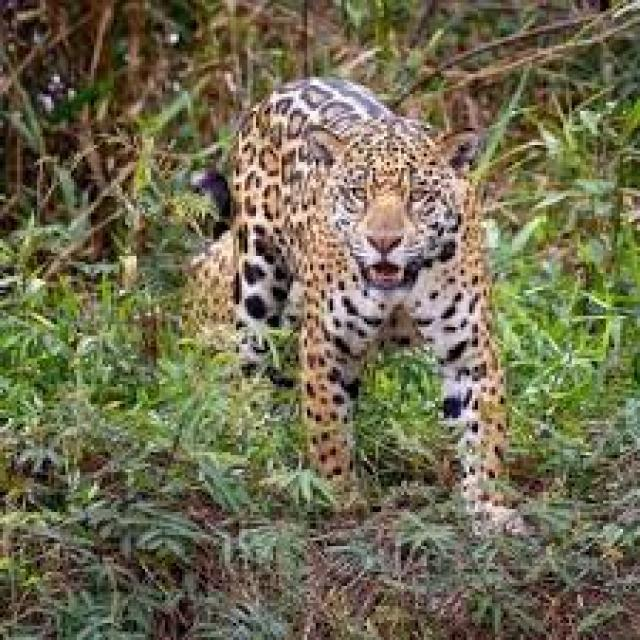Jaguar: (165, 74, 543, 575)
